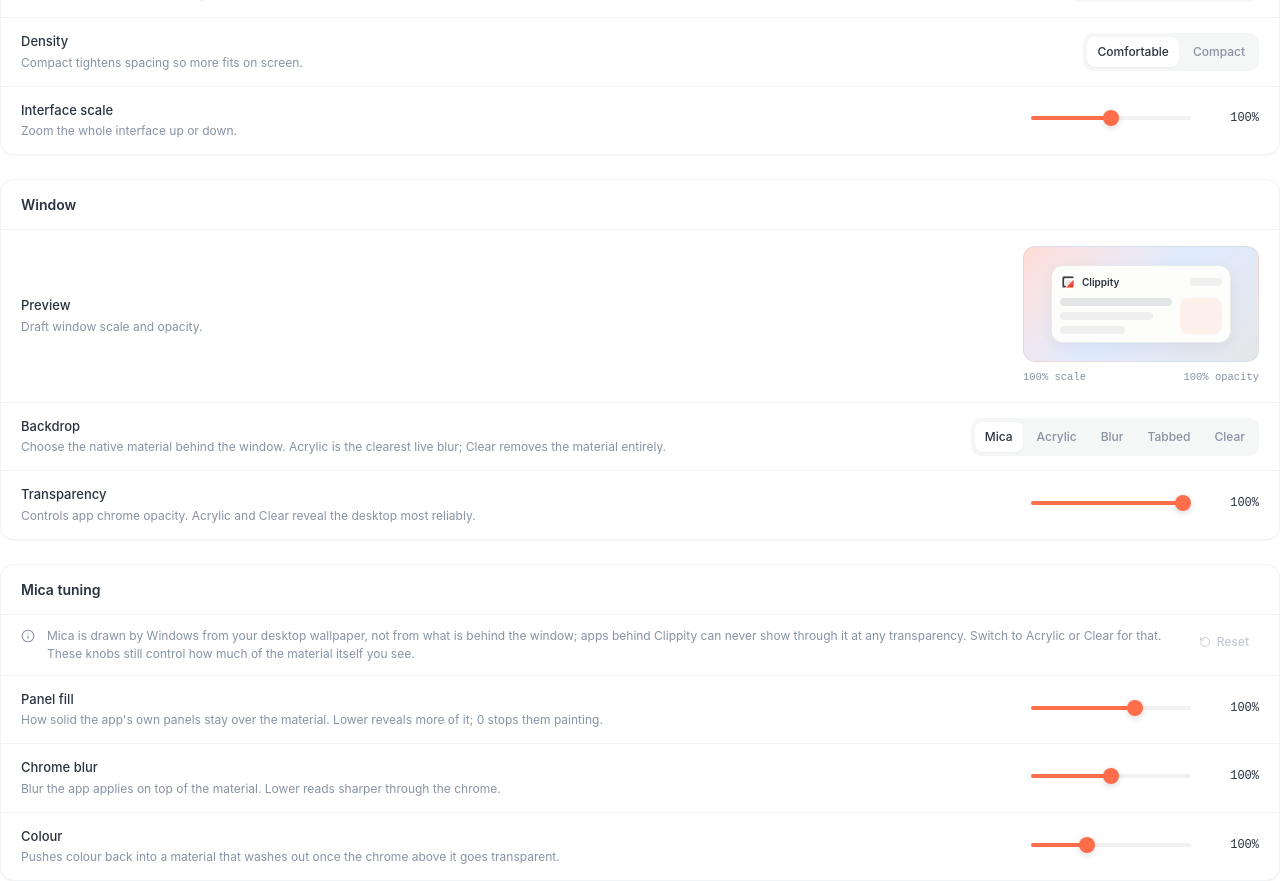
Test: AppearancePanel › previews window transparency while dragging and commits on release
(page scrolled)
Set the slider named "Window opacity" to "70" at (1135, 503), box [1031,495,1191,511]
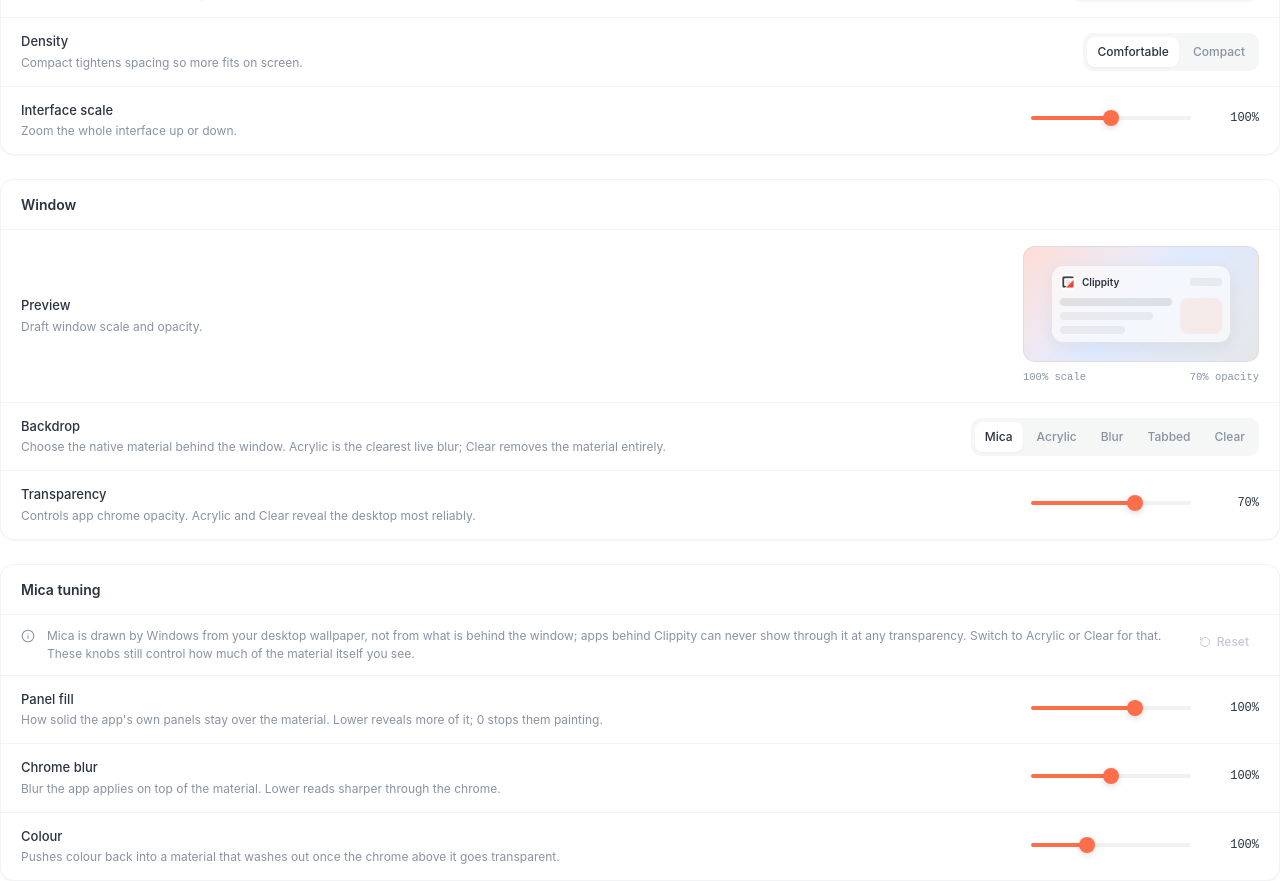
Check: the text "70% opacity" is shown, box [1190,370,1259,386]
